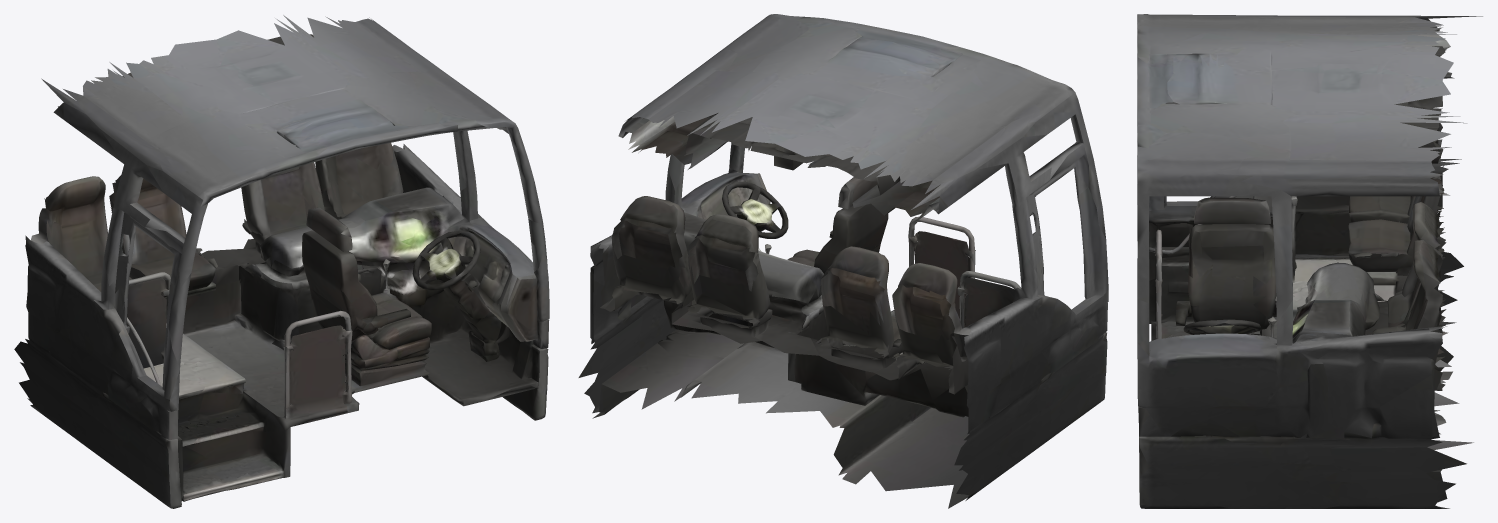
Rendered from int_rodoviario.glb.
3 renders of one model, left to right at view 1: azimuth 30°, elevation 25°; view 2: azimuth 150°, elevation 25°; view 3: azimuth 270°, elevation 25°, orthographic. The views are drawn at different scales.
Visible parts, largest first — view 1: veiculo; view 2: veiculo; view 3: veiculo.
Boxes of the visible parts, bbox=[...] form: veiculo: bbox=[14, 15, 549, 508]; veiculo: bbox=[578, 14, 1108, 508]; veiculo: bbox=[1137, 14, 1482, 508].
Bounding box in the file's own units: 2.5 × 2 × 1.84.
1 material, 1 textured.
